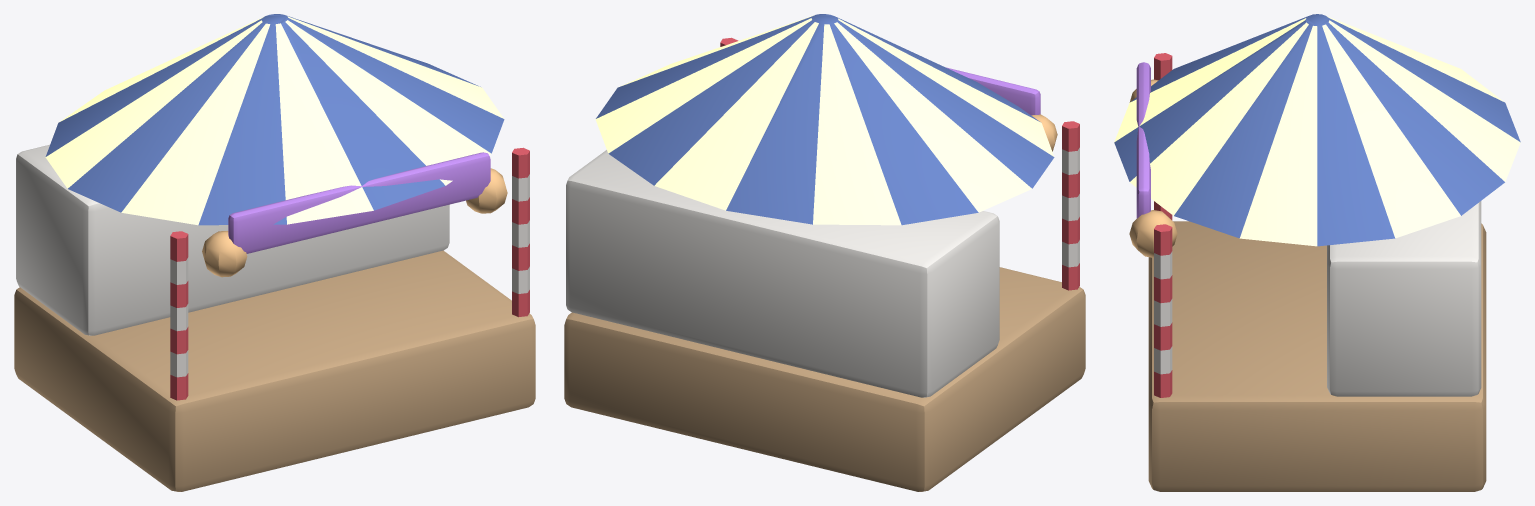
File: Booth_Neon_C.fbx
3 renders of one model, left to right at view 1: azimuth 30°, elevation 25°; view 2: azimuth 150°, elevation 25°; view 3: azimuth 270°, elevation 25°, orthographic. The views are drawn at different scales.
Parts seen in each view (by area): view 1: Booth_Neon_C; view 2: Booth_Neon_C; view 3: Booth_Neon_C.
Part boxes in pixels (<box>): Booth_Neon_C: <box>14,14,535,491</box>; Booth_Neon_C: <box>564,14,1085,491</box>; Booth_Neon_C: <box>1114,14,1520,491</box>.
Bounding box in the file's own units: 5.1 × 4.4 × 4.22.
